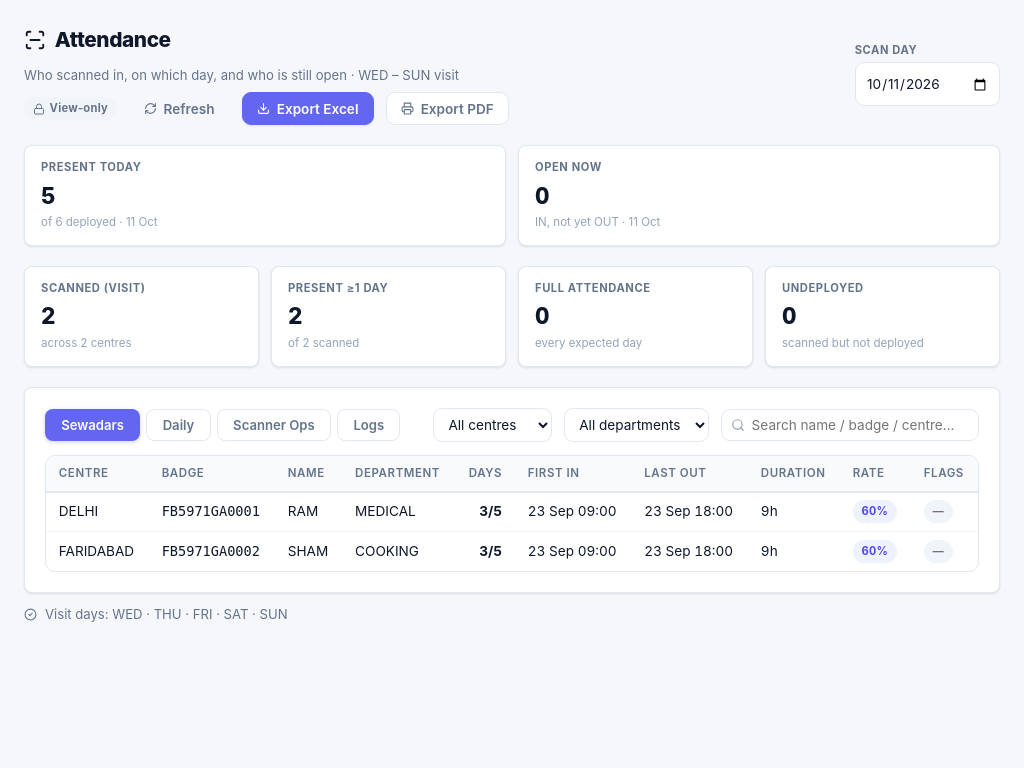
Scenario: A5 — an empty scan day is never sent to Postgres › renders "No scan day selected" on the Daily tab, not "no deployment for this day"
This screenshot has width=1024, height=768.
Clear the date field named "Scan day" at (927, 84), box [855, 62, 1000, 106]
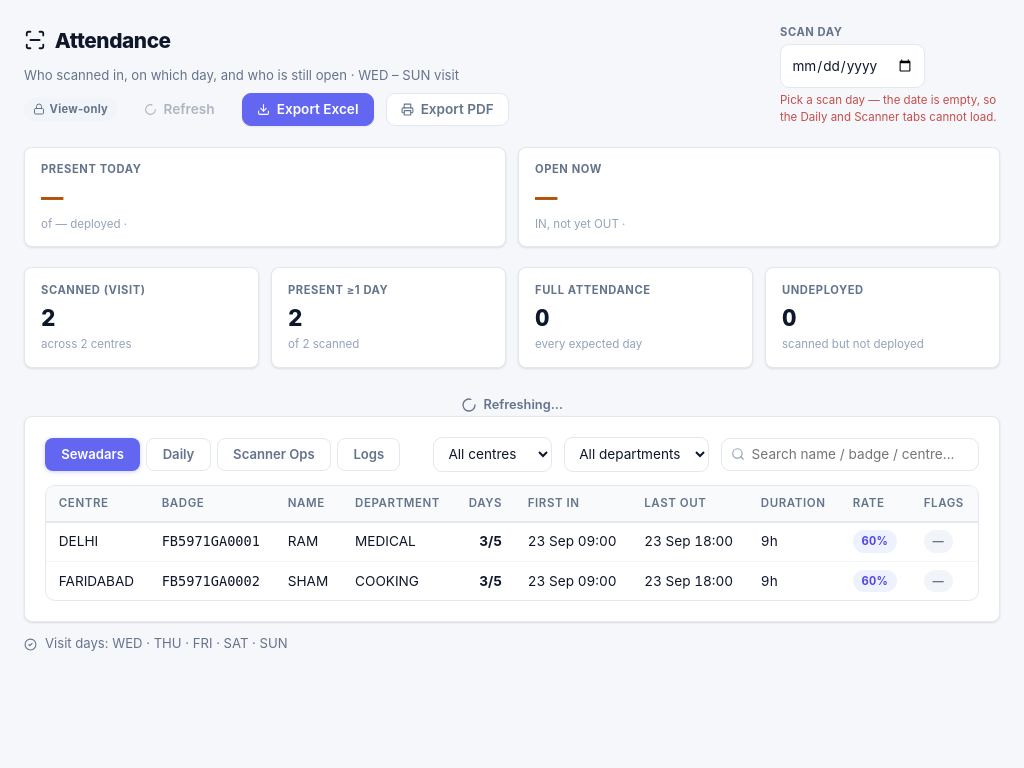
Click the button "Daily" at (179, 454), box [146, 438, 211, 471]
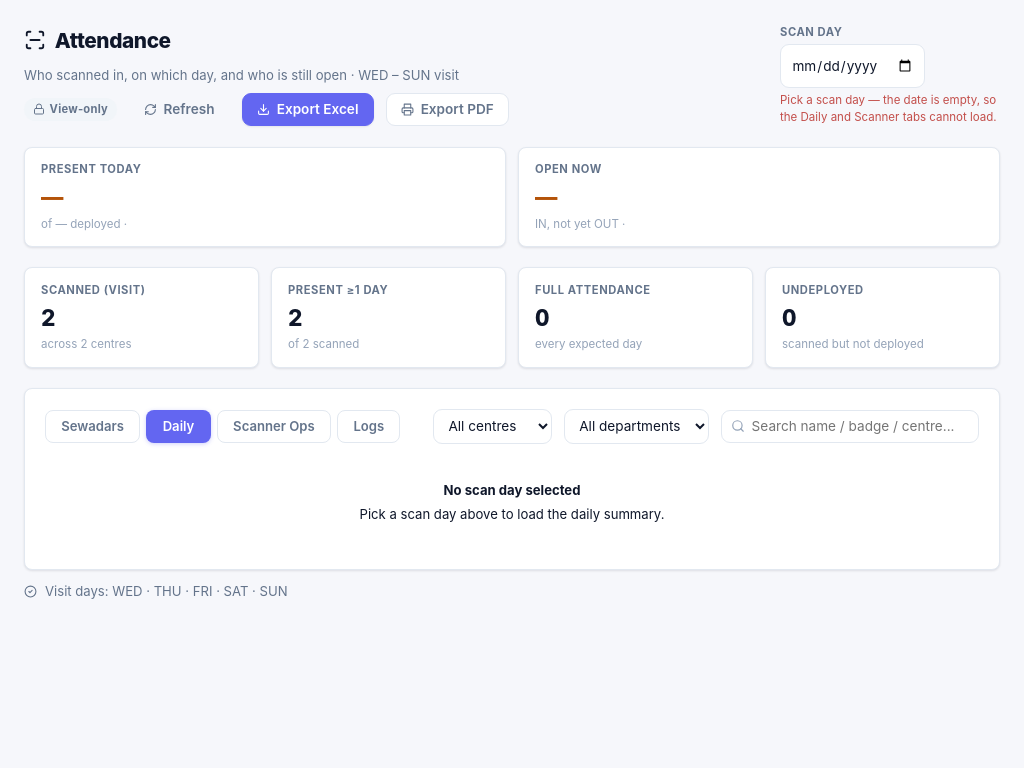
Expected: the text "No scan day selected" is shown, [444, 482, 580, 498]
